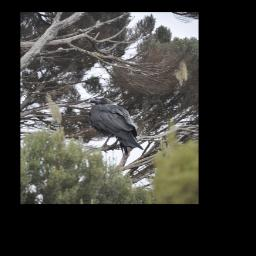Crow: (89, 97, 143, 158)
